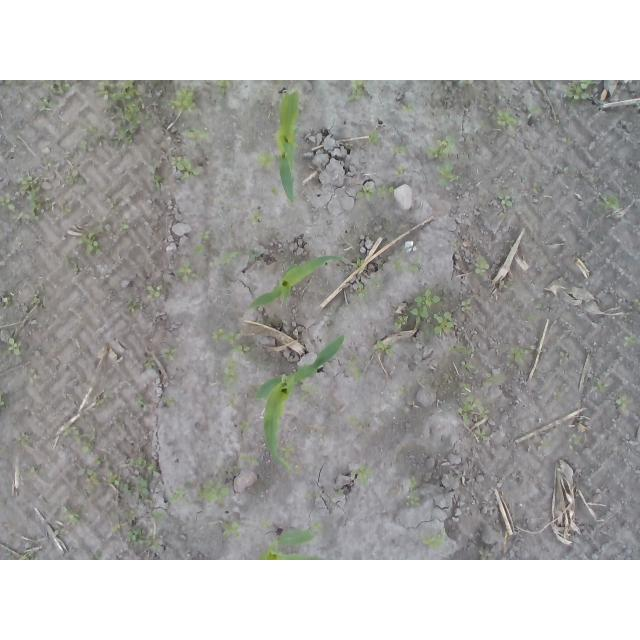Maize: (255, 334, 345, 472), (242, 254, 342, 315), (274, 92, 302, 205), (259, 528, 322, 561)
Weeds: (94, 81, 160, 152), (410, 287, 455, 336), (428, 135, 461, 185), (106, 472, 155, 503), (199, 467, 240, 504), (17, 175, 43, 225), (212, 328, 252, 357), (61, 421, 95, 455), (80, 223, 110, 257), (456, 395, 488, 425), (168, 86, 200, 112), (419, 528, 453, 552), (128, 528, 161, 552), (223, 362, 241, 406), (111, 507, 138, 535), (563, 80, 593, 104), (167, 479, 194, 505), (171, 155, 201, 178), (128, 456, 156, 480), (356, 184, 394, 201), (392, 250, 421, 272), (79, 120, 98, 152), (76, 466, 100, 490), (507, 346, 530, 370), (496, 108, 521, 130), (343, 80, 368, 102), (352, 463, 372, 490), (404, 477, 421, 508), (347, 356, 367, 382), (176, 263, 197, 286), (192, 231, 210, 257), (148, 161, 163, 191), (599, 191, 622, 210), (222, 519, 243, 538), (51, 80, 73, 98), (299, 384, 321, 402), (65, 176, 88, 193), (255, 149, 274, 169), (567, 432, 586, 452), (63, 504, 81, 524), (347, 415, 368, 432), (39, 96, 58, 113), (15, 430, 34, 447), (474, 255, 491, 274), (187, 127, 210, 141), (214, 80, 234, 96), (220, 251, 241, 266), (616, 392, 633, 410), (281, 441, 298, 459), (93, 452, 112, 468), (7, 336, 22, 356), (496, 192, 513, 209), (374, 340, 392, 356), (161, 344, 178, 360), (46, 193, 64, 208), (391, 143, 409, 158), (487, 371, 505, 386), (152, 509, 171, 523), (448, 345, 472, 356), (394, 164, 410, 180), (368, 131, 385, 146), (1, 289, 15, 307), (0, 196, 16, 211), (146, 284, 161, 300), (27, 368, 40, 386), (240, 455, 261, 466), (353, 283, 368, 298), (65, 256, 79, 272), (478, 546, 494, 560), (126, 295, 138, 313), (393, 316, 408, 330), (366, 278, 384, 289), (237, 419, 251, 433), (162, 398, 178, 410), (594, 382, 611, 393), (247, 248, 261, 261), (354, 257, 367, 271), (136, 399, 148, 414), (446, 80, 466, 89), (460, 299, 472, 314), (527, 104, 538, 119), (624, 335, 637, 347), (558, 351, 569, 365), (632, 296, 640, 313), (478, 431, 490, 442), (398, 387, 410, 398), (94, 550, 107, 560), (32, 289, 41, 303), (23, 549, 34, 560), (251, 210, 261, 222), (103, 192, 113, 204), (402, 103, 414, 113), (144, 360, 157, 369), (261, 519, 272, 529), (0, 390, 6, 408), (461, 361, 473, 370), (496, 95, 511, 102), (563, 135, 573, 145), (543, 440, 554, 449), (103, 392, 114, 401), (443, 372, 454, 381), (532, 181, 540, 193), (119, 222, 129, 231), (335, 488, 344, 497), (64, 207, 72, 217), (503, 280, 513, 288), (271, 185, 278, 195), (312, 521, 320, 529), (223, 144, 231, 152), (536, 303, 545, 310), (463, 383, 473, 389), (47, 160, 53, 168)
